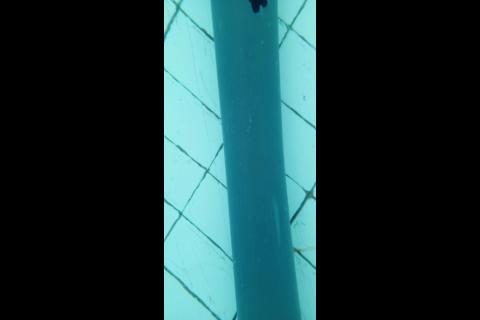kebocoran: (247, 0, 267, 14)
